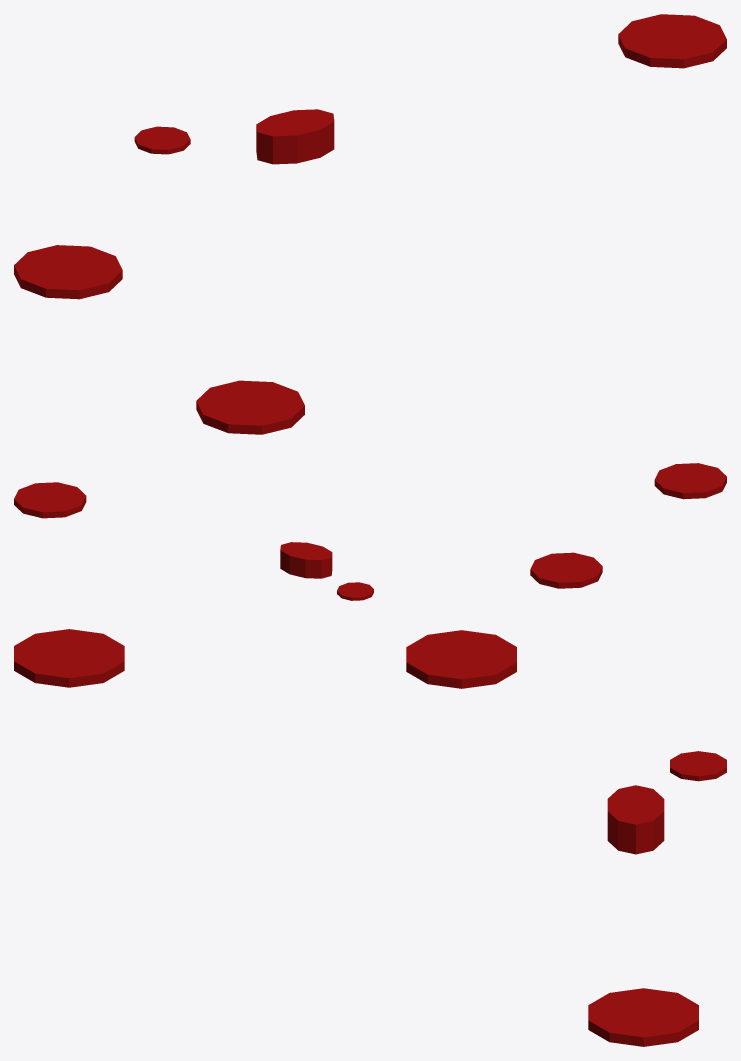
Rendered from beef2.glb.
The picture shows the model from 3 angles, top to bottom: view 1: azimuth 30°, elevation 25°; view 2: azimuth 150°, elevation 25°; view 3: azimuth 270°, elevation 25°; orthographic projection. The views are drawn at different scales.
Visible parts, largest first — view 1: Pepproni_PepproniMat_0.002, Pepproni_PepproniMat_0.001, Pepproni_PepproniMat_0, Pepproni_PepproniMat_0.003, Pepproni_PepproniMat_0.004; view 2: Pepproni_PepproniMat_0, Pepproni_PepproniMat_0.001, Pepproni_PepproniMat_0.002, Pepproni_PepproniMat_0.003, Pepproni_PepproniMat_0.004; view 3: Pepproni_PepproniMat_0, Pepproni_PepproniMat_0.002, Pepproni_PepproniMat_0.001, Pepproni_PepproniMat_0.003, Pepproni_PepproniMat_0.004.
Part boxes in pixels (left/top/right/bottom): Pepproni_PepproniMat_0.002: left=618, top=14, right=726, bottom=68; Pepproni_PepproniMat_0.001: left=196, top=380, right=304, bottom=434; Pepproni_PepproniMat_0: left=14, top=245, right=122, bottom=299; Pepproni_PepproniMat_0.003: left=256, top=109, right=334, bottom=164; Pepproni_PepproniMat_0.004: left=134, top=126, right=190, bottom=154; Pepproni_PepproniMat_0: left=530, top=552, right=602, bottom=588; Pepproni_PepproniMat_0.001: left=654, top=463, right=726, bottom=499; Pepproni_PepproniMat_0.002: left=14, top=482, right=86, bottom=518; Pepproni_PepproniMat_0.003: left=280, top=542, right=332, bottom=578; Pepproni_PepproniMat_0.004: left=337, top=582, right=373, bottom=600; Pepproni_PepproniMat_0: left=406, top=630, right=516, bottom=688; Pepproni_PepproniMat_0.002: left=588, top=988, right=698, bottom=1046; Pepproni_PepproniMat_0.001: left=14, top=629, right=124, bottom=687; Pepproni_PepproniMat_0.003: left=607, top=785, right=664, bottom=854; Pepproni_PepproniMat_0.004: left=670, top=751, right=726, bottom=781.
Size of the model in its own units: 1.72 by 0.0586 by 1.27.
